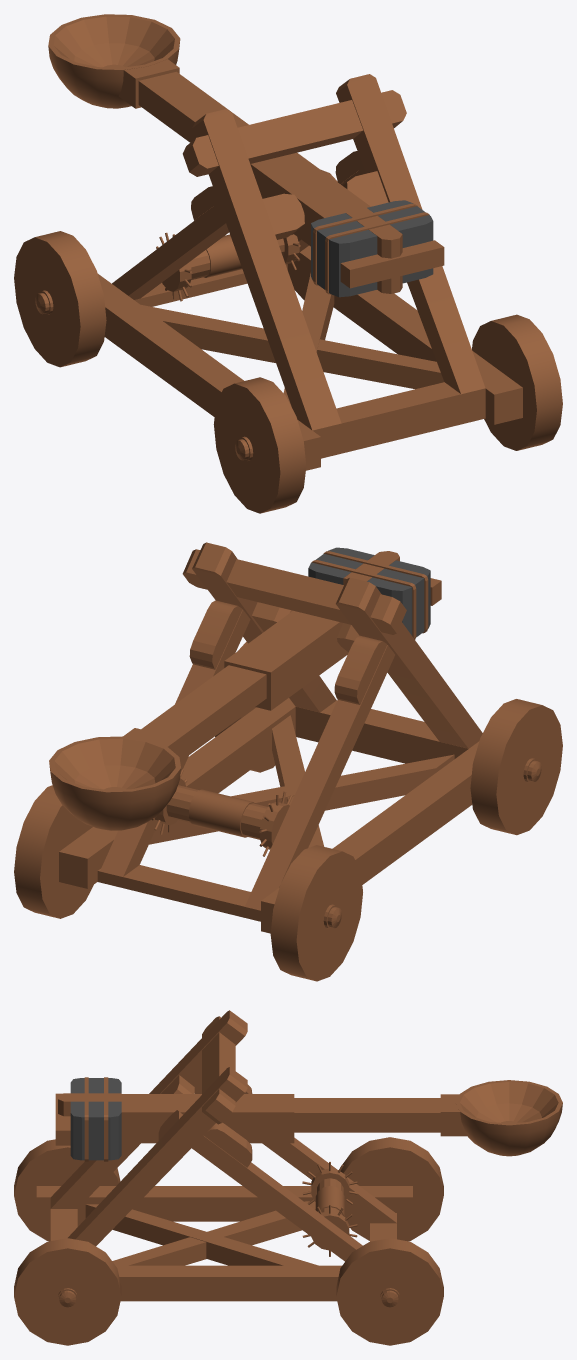
Rendered from SK_Catapult.fbx.
3 renders of one model, top to bottom at view 1: azimuth 30°, elevation 25°; view 2: azimuth 150°, elevation 25°; view 3: azimuth 270°, elevation 25°, orthographic. The views are drawn at different scales.
Visible parts, largest first — view 1: Catapult, BoulderHolderFront, CatapultHolderLeft, CatapultHolderRight; view 2: Catapult, BoulderHolderFront, CatapultHolderRight; view 3: Catapult, BoulderHolderFront.
Part boxes in pixels (box(x1,y1,x2,y2)): Catapult: box(14, 74, 562, 513); BoulderHolderFront: box(48, 14, 444, 297); CatapultHolderLeft: box(262, 193, 304, 239); CatapultHolderRight: box(343, 171, 388, 206); Catapult: box(14, 542, 562, 981); BoulderHolderFront: box(49, 547, 441, 830); CatapultHolderRight: box(252, 602, 292, 631); Catapult: box(14, 1010, 443, 1345); BoulderHolderFront: box(55, 1077, 562, 1161).
Bounding box in the file's own units: 125 × 122 × 246.
